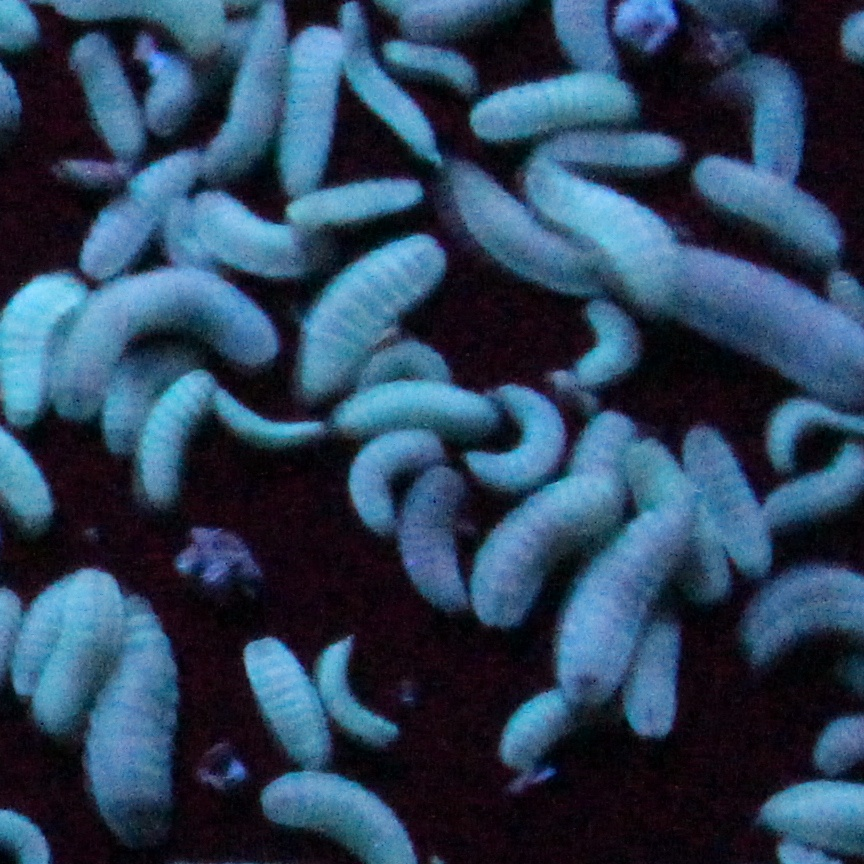larve: (84, 581, 188, 846), (561, 501, 692, 704), (286, 234, 442, 399), (468, 472, 617, 635), (435, 154, 601, 292), (521, 154, 686, 288), (619, 437, 742, 604), (59, 263, 184, 408), (673, 421, 777, 581), (692, 154, 850, 259), (697, 41, 810, 177), (82, 144, 199, 270), (33, 563, 121, 730), (384, 464, 477, 612), (301, 621, 399, 748), (342, 421, 442, 543), (459, 72, 646, 137), (141, 268, 270, 359), (244, 635, 333, 764), (131, 370, 210, 510), (475, 374, 566, 492), (193, 192, 319, 277), (617, 604, 693, 743), (486, 679, 593, 772), (557, 294, 650, 399), (279, 26, 339, 183), (66, 34, 142, 154), (273, 177, 432, 232), (333, 388, 510, 435), (202, 390, 319, 450), (106, 341, 173, 444), (381, 32, 484, 92), (762, 386, 835, 468), (19, 577, 73, 684), (532, 130, 666, 170)
